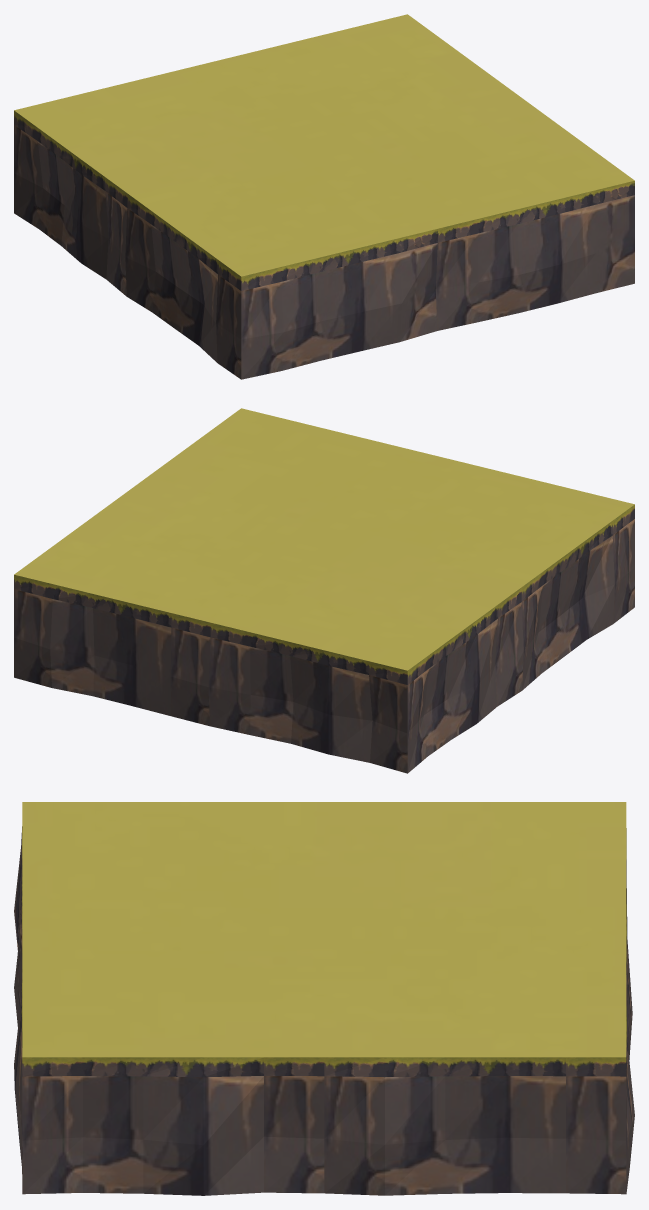
Rendered from SM_RC_Terrain_Plateau_16x16x4.gltf.
3 views of the same model, one above another, from view 1: azimuth 30°, elevation 25°; view 2: azimuth 150°, elevation 25°; view 3: azimuth 270°, elevation 25° (orthographic). The views are drawn at different scales.
Parts seen in each view (by area): view 1: SM_RC_Terrain_Plateau_16x16x4; view 2: SM_RC_Terrain_Plateau_16x16x4; view 3: SM_RC_Terrain_Plateau_16x16x4.
Boxes of the visible parts, <box> form: SM_RC_Terrain_Plateau_16x16x4: <box>14,14,634,379</box>; SM_RC_Terrain_Plateau_16x16x4: <box>14,408,634,773</box>; SM_RC_Terrain_Plateau_16x16x4: <box>14,802,634,1195</box>.
Bounding box in the file's own units: 16.38 × 4 × 16.45.
1 material, 1 textured.
